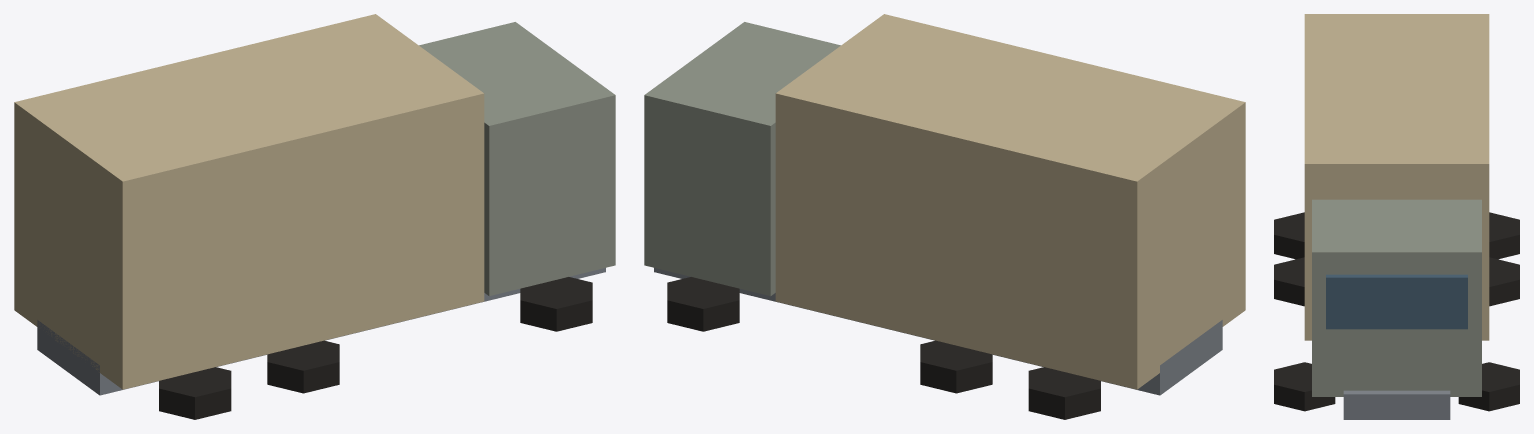
The model's file is cargo_truck.glb.
3 renders of one model, left to right at view 1: azimuth 30°, elevation 25°; view 2: azimuth 150°, elevation 25°; view 3: azimuth 270°, elevation 25°, orthographic. The views are drawn at different scales.
Parts seen in each view (by area): view 1: cargo_truck_mesh; view 2: cargo_truck_mesh; view 3: cargo_truck_mesh.
Boxes of the visible parts, bbox=[...] form: cargo_truck_mesh: bbox=[14, 14, 615, 419]; cargo_truck_mesh: bbox=[644, 14, 1245, 419]; cargo_truck_mesh: bbox=[1274, 14, 1519, 419].
Bounding box in the file's own units: 0.14 × 0.063 × 0.0693.
